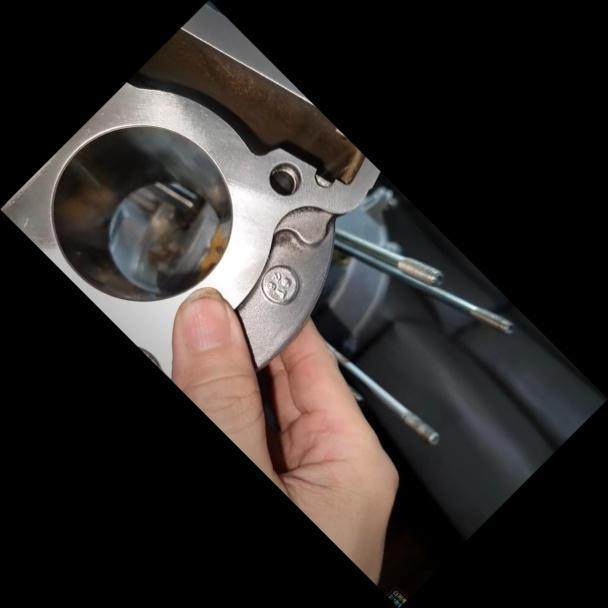hole: (260, 152, 310, 202)
